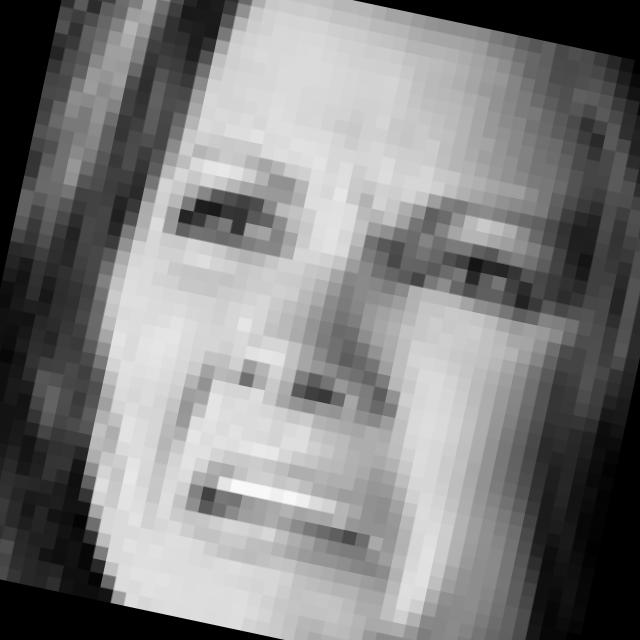disgust: (84, 130, 566, 622)
